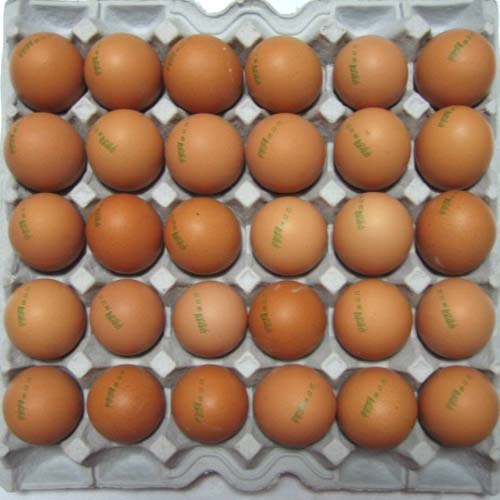egg: (7, 27, 498, 449)
